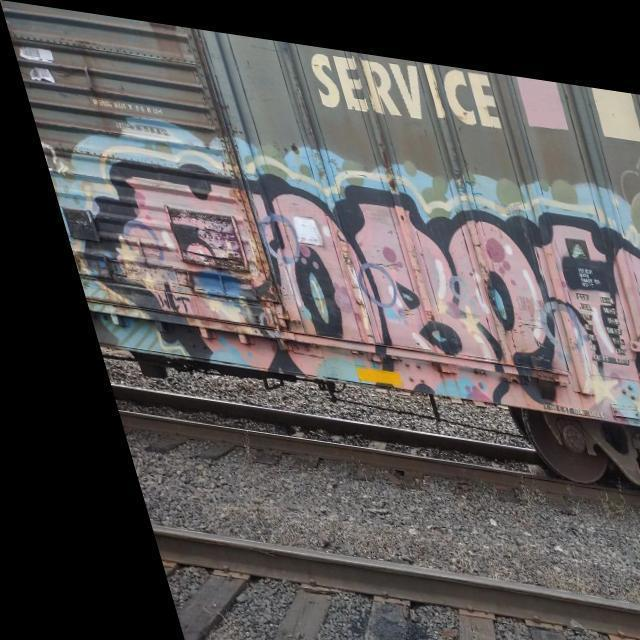nonspitting: (77, 160, 640, 403)
